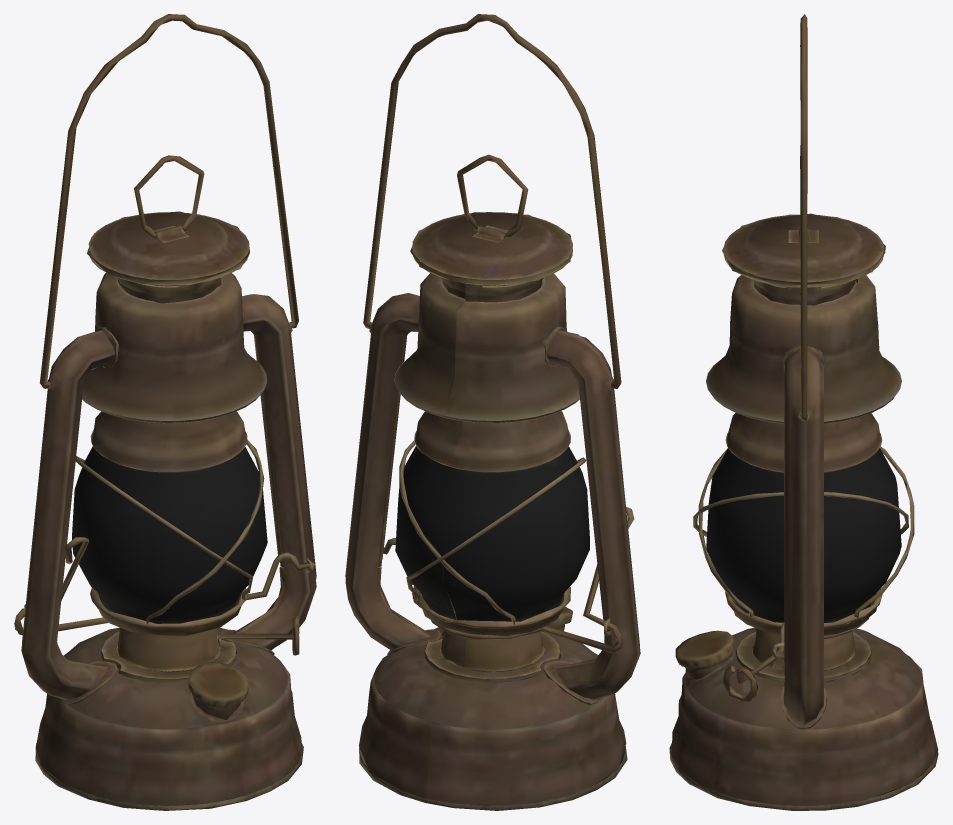
The model's file is Lantern_01.glb.
The picture shows the model from 3 angles, left to right: view 1: azimuth 30°, elevation 25°; view 2: azimuth 150°, elevation 25°; view 3: azimuth 270°, elevation 25°; orthographic projection.
Parts seen in each view (by area): view 1: Lantern_01; view 2: Lantern_01; view 3: Lantern_01.
Boxes of the visible parts, x1,y1,x2,y2 form: Lantern_01: (14, 14, 316, 810); Lantern_01: (345, 14, 640, 810); Lantern_01: (669, 14, 938, 810).
Size of the model in its own units: 0.1226 by 0.2943 by 0.0973.
Materials: 2 (2 with a texture image).
